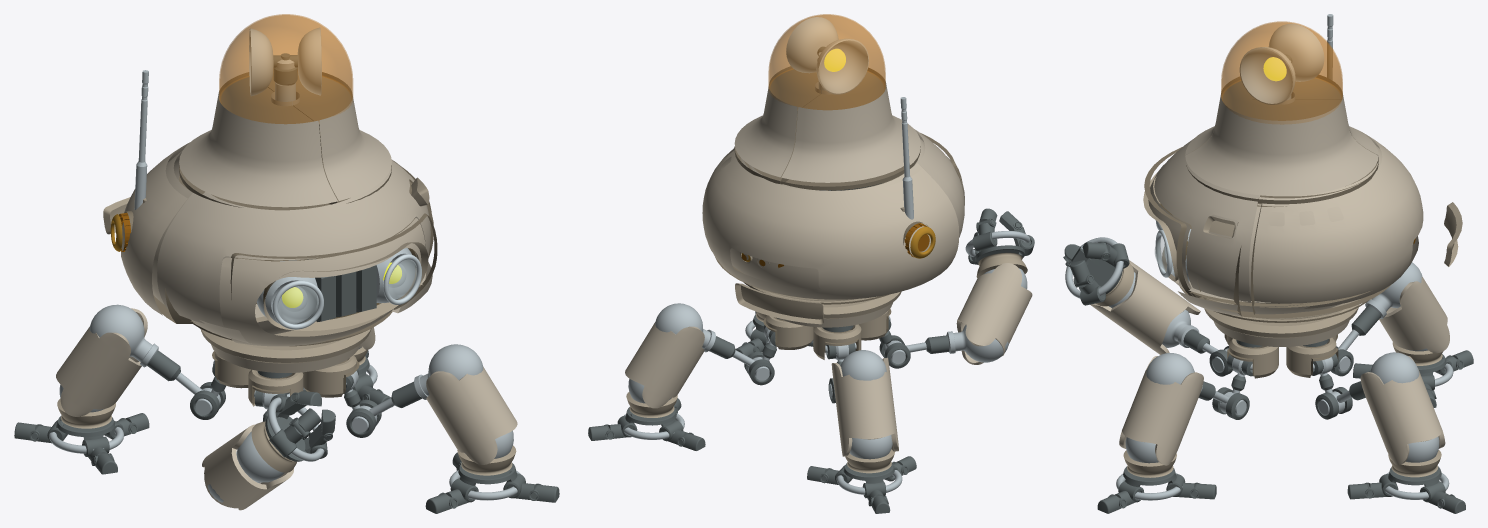
The model's file is prp_scifi_robot.glb.
3 renders of one model, left to right at view 1: azimuth 30°, elevation 25°; view 2: azimuth 150°, elevation 25°; view 3: azimuth 270°, elevation 25°, orthographic. The views are drawn at different scales.
Parts seen in each view (by area): view 1: Cylinder.027, Cylinder.028, Sphere.007, Cylinder.049, Cylinder.051, Cylinder.009, Cylinder.021, Cylinder.001, Cylinder.036, Sphere.021, Sphere.005, Cube.011 (+28 smaller); view 2: Cylinder.051, Cylinder.027, Sphere.007, Cylinder.036, Cylinder.015, Cylinder.021, Sphere.021, Cylinder.001, Cylinder.028, Sphere.014, Sphere.011, Sphere.017 (+19 smaller); view 3: Cylinder.051, Cylinder.027, Sphere.007, Cylinder.028, Cylinder.009, Cylinder.015, Sphere.021, Cylinder.036, Cylinder.001, Cylinder.021, Cylinder.049, Sphere.017 (+25 smaller).
Part boxes in pixels (x1,y1,x2,y2): Cylinder.027: [179, 72, 391, 210]; Cylinder.028: [157, 160, 431, 327]; Sphere.007: [219, 14, 352, 123]; Cylinder.049: [219, 213, 437, 346]; Cylinder.051: [103, 142, 433, 323]; Cylinder.009: [426, 366, 517, 464]; Cylinder.021: [56, 308, 147, 416]; Cylinder.001: [200, 329, 371, 372]; Cylinder.036: [202, 424, 293, 510]; Sphere.021: [249, 27, 321, 96]; Sphere.005: [256, 248, 415, 324]; Cube.011: [307, 259, 376, 321]; Cylinder.051: [702, 148, 959, 324]; Cylinder.027: [734, 66, 920, 190]; Sphere.007: [768, 14, 885, 109]; Cylinder.036: [956, 263, 1032, 364]; Cylinder.015: [625, 322, 704, 408]; Cylinder.021: [831, 357, 898, 456]; Sphere.021: [786, 17, 868, 94]; Cylinder.001: [752, 286, 901, 327]; Cylinder.028: [734, 111, 964, 237]; Sphere.014: [836, 449, 902, 494]; Sphere.011: [624, 392, 684, 439]; Sphere.017: [965, 231, 1030, 278]; Cylinder.051: [1233, 129, 1462, 318]; Cylinder.027: [1185, 75, 1378, 204]; Sphere.007: [1221, 21, 1342, 124]; Cylinder.028: [1154, 138, 1262, 315]; Cylinder.009: [1119, 356, 1203, 465]; Cylinder.015: [1360, 356, 1445, 465]; Sphere.021: [1239, 23, 1324, 104]; Cylinder.036: [1090, 260, 1200, 354]; Cylinder.001: [1204, 304, 1359, 346]; Cylinder.021: [1370, 277, 1449, 353]; Cylinder.049: [1143, 147, 1196, 297]; Sphere.017: [1065, 237, 1133, 306].
Size of the model in its own units: 3.33 by 4.08 by 3.72.
